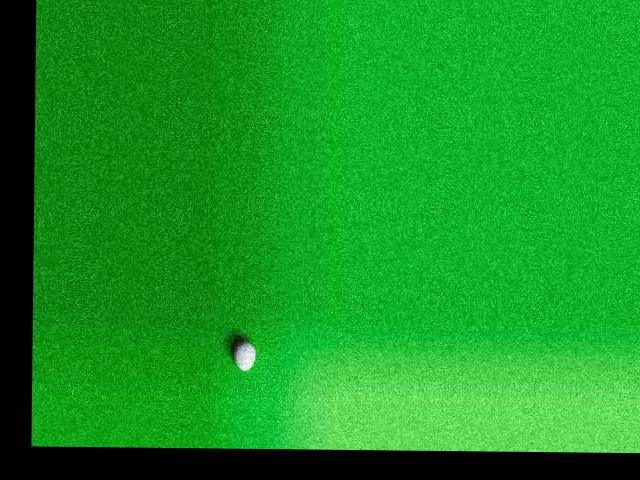egg: (233, 340, 255, 370)
